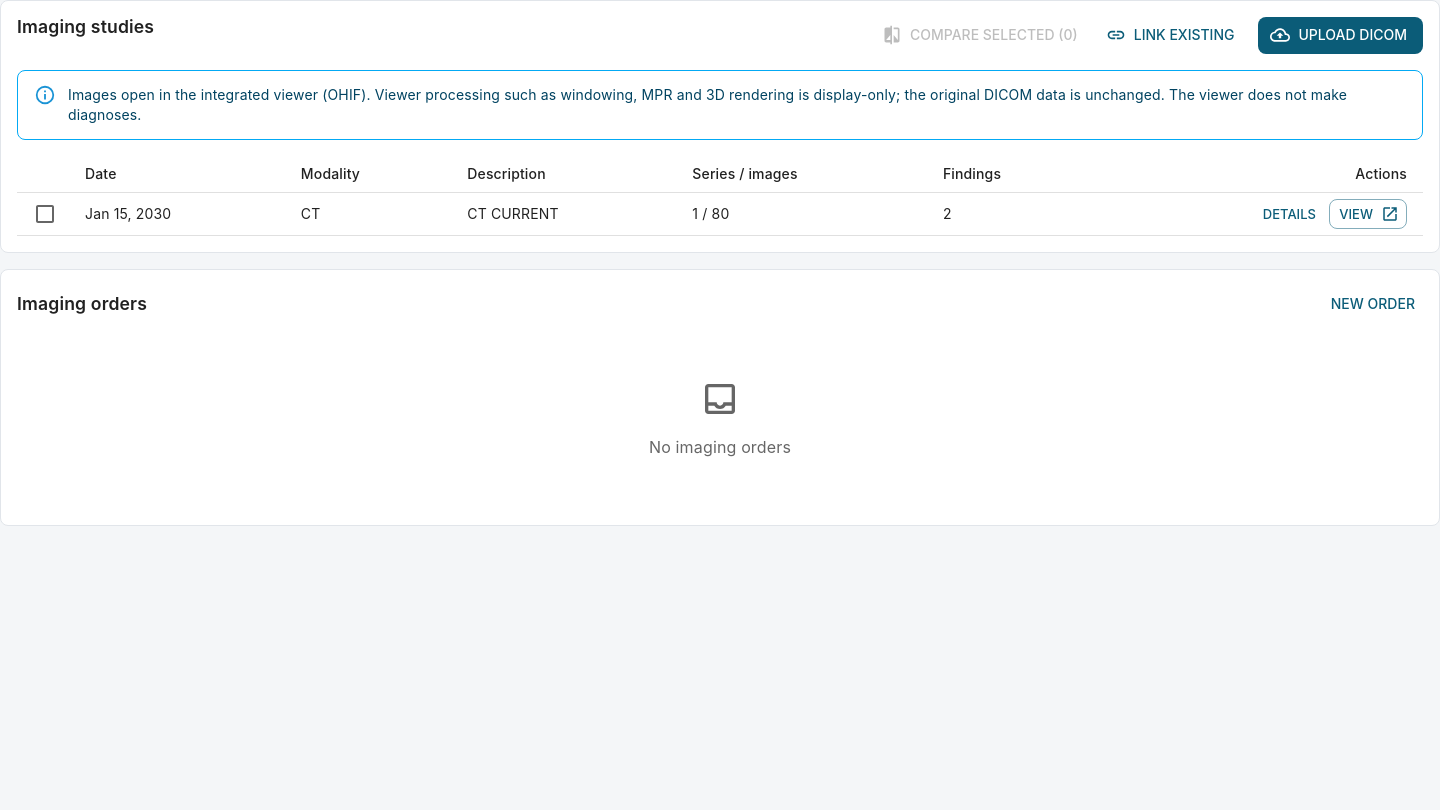
Test: ImagingPanel › closes the pre-opened tab and shows the error when authorization fails
Click the button "View": (1368, 214) [1329,198,1407,229]
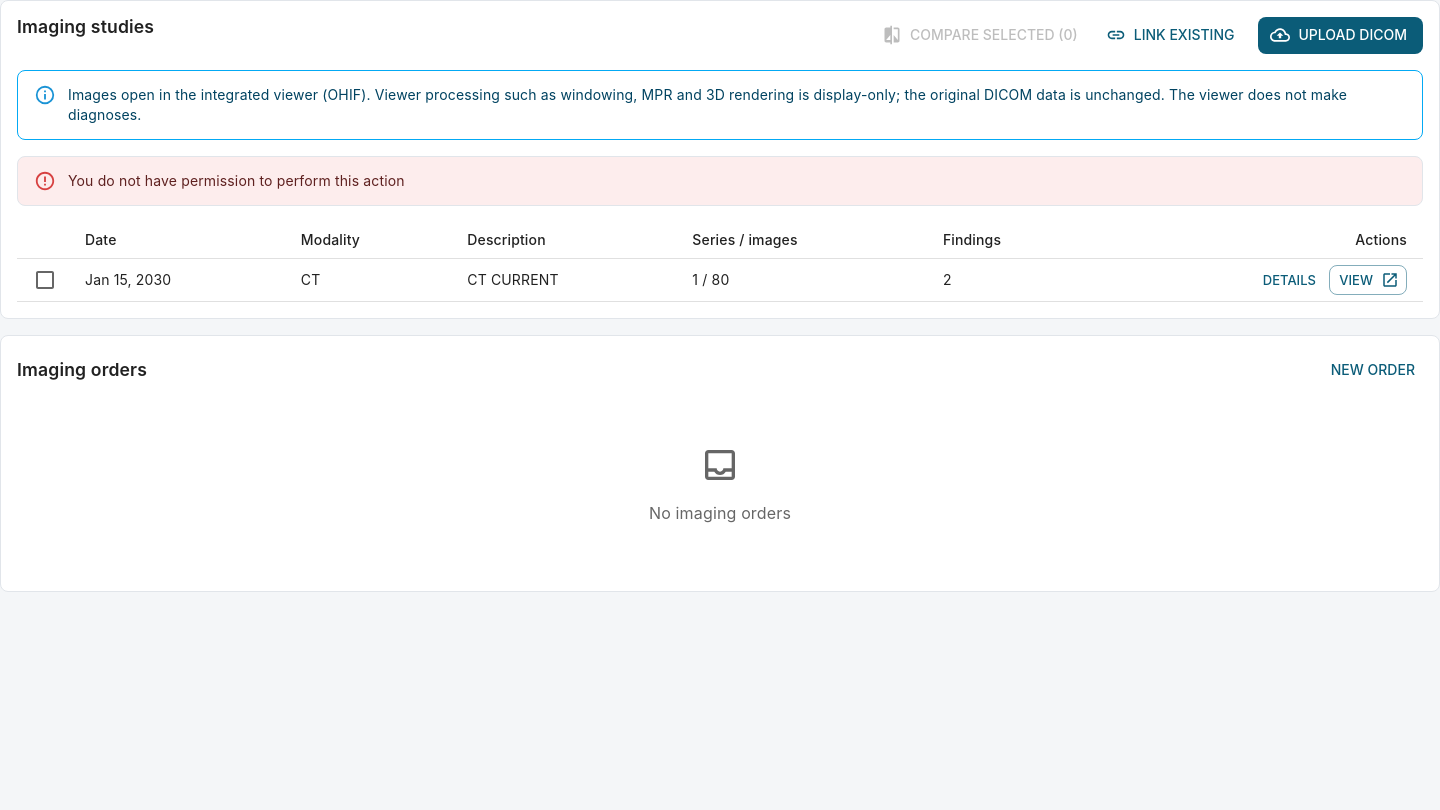
Expected: the text "You do not have permission to perform this action" is shown, [68,172,405,188]
